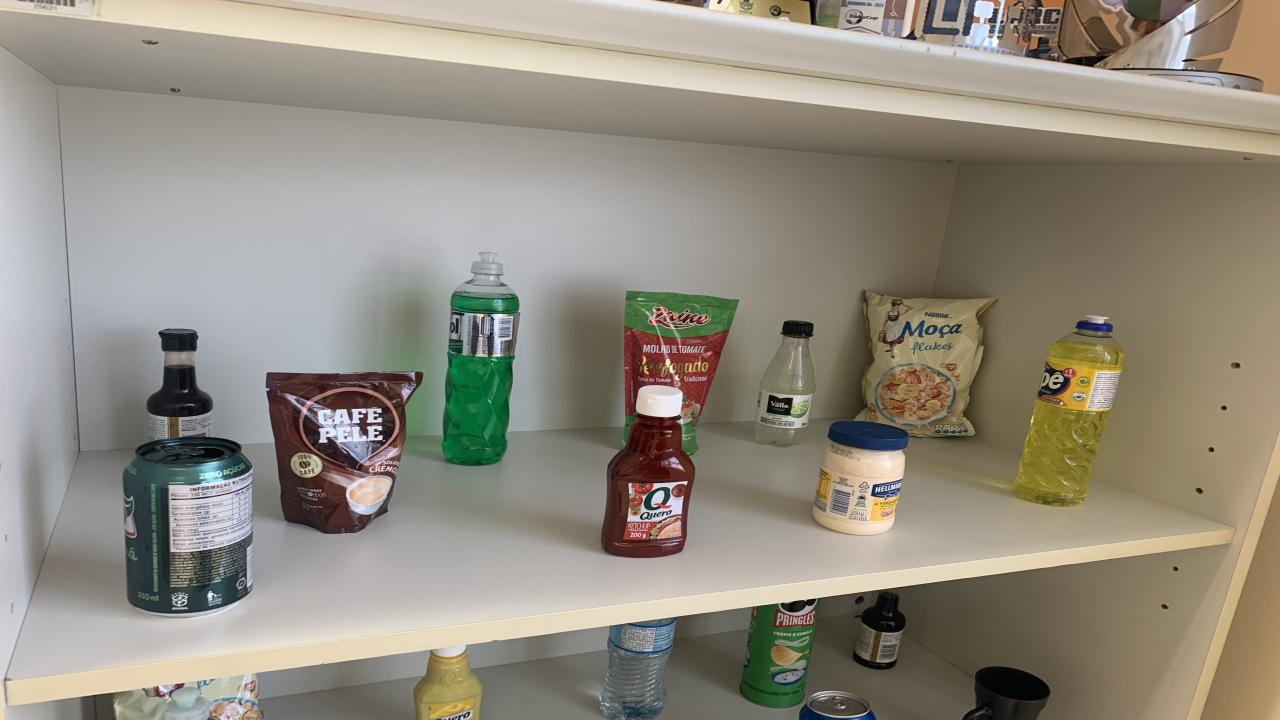Coffee-Pantry_Items: (265, 371, 422, 532)
Detergent-Cleanup_Items: (1015, 315, 1125, 506), (442, 251, 520, 465), (162, 688, 212, 720)
English_Sauce-Pantry_Items: (148, 328, 212, 441), (852, 591, 905, 669)
Flakes-Snacks: (858, 291, 995, 437), (115, 673, 262, 720)
Guarana_Can-Drinks: (122, 437, 252, 617)
Ketchup-Pantry_Items: (602, 384, 695, 557)
Mayonnaise-Pantry_Items: (812, 420, 910, 534)
Mustard-Pantry_Items: (412, 645, 482, 720)
Pringles-Snacks: (740, 600, 818, 707)
Soda-Drinks: (755, 321, 815, 446)
Tomato_Sauce-Pantry_Items: (625, 291, 738, 454)
Tonic-Drinks: (800, 690, 875, 720)
Water_Bottle-Drinks: (600, 619, 675, 720)
